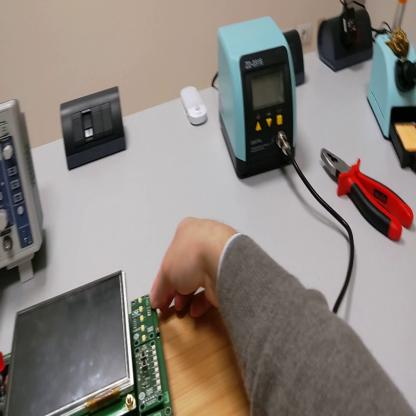hand: (150, 214, 229, 322)
low voltage board: (2, 269, 173, 413)
oscilloscope: (2, 102, 47, 286)
pliers: (323, 146, 415, 244)
socket: (320, 6, 374, 73), (282, 31, 305, 87)
welder base: (368, 32, 415, 173)
welder station: (217, 15, 298, 178)
working area: (161, 291, 253, 416)
